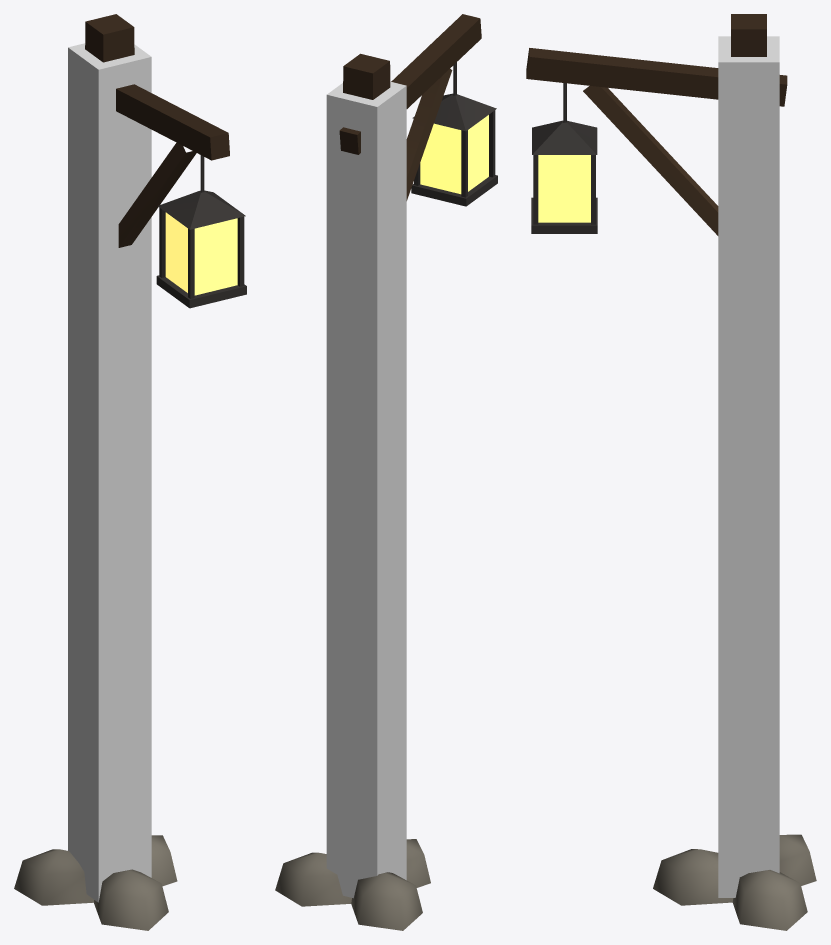
The model's file is lamp_post.glb.
3 renders of one model, left to right at view 1: azimuth 30°, elevation 25°; view 2: azimuth 150°, elevation 25°; view 3: azimuth 270°, elevation 25°, orthographic. The views are drawn at different scales.
Parts seen in each view (by area): view 1: COL_post, lamp_post; view 2: COL_post, lamp_post; view 3: COL_post, lamp_post.
Part boxes in pixels (x1=…): COL_post: x1=68, y1=43, x2=151, y2=902; lamp_post: x1=14, y1=14, x2=246, y2=930; COL_post: x1=326, y1=81, x2=406, y2=898; lamp_post: x1=275, y1=14, x2=497, y2=930; COL_post: x1=718, y1=36, x2=779, y2=897; lamp_post: x1=526, y1=14, x2=816, y2=930.
Size of the model in its own units: 0.5424 by 3.13 by 0.945.
